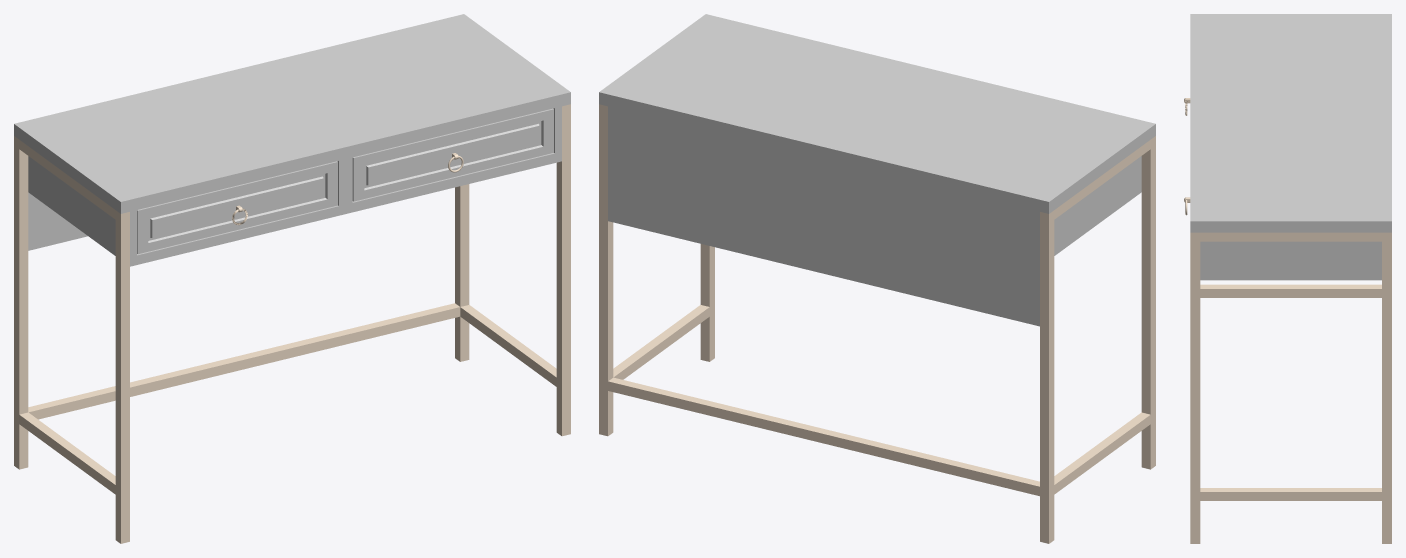
File: 473_コンソールテーブル.glb
3 views of the same model, side by side, from view 1: azimuth 30°, elevation 25°; view 2: azimuth 150°, elevation 25°; view 3: azimuth 270°, elevation 25° (orthographic). The views are drawn at different scales.
Visible parts, largest first — view 1: body, hikidashi_migi, hikidashi_hidari; view 2: body; view 3: body.
Part boxes in pixels (bbox=[...]): body: bbox=[14, 14, 570, 543]; hikidashi_migi: bbox=[352, 108, 553, 201]; hikidashi_hidari: bbox=[137, 161, 337, 254]; body: bbox=[599, 14, 1155, 543]; body: bbox=[1190, 14, 1391, 543].
Bounding box in the file's own units: 0.985 × 0.715 × 0.4173.
